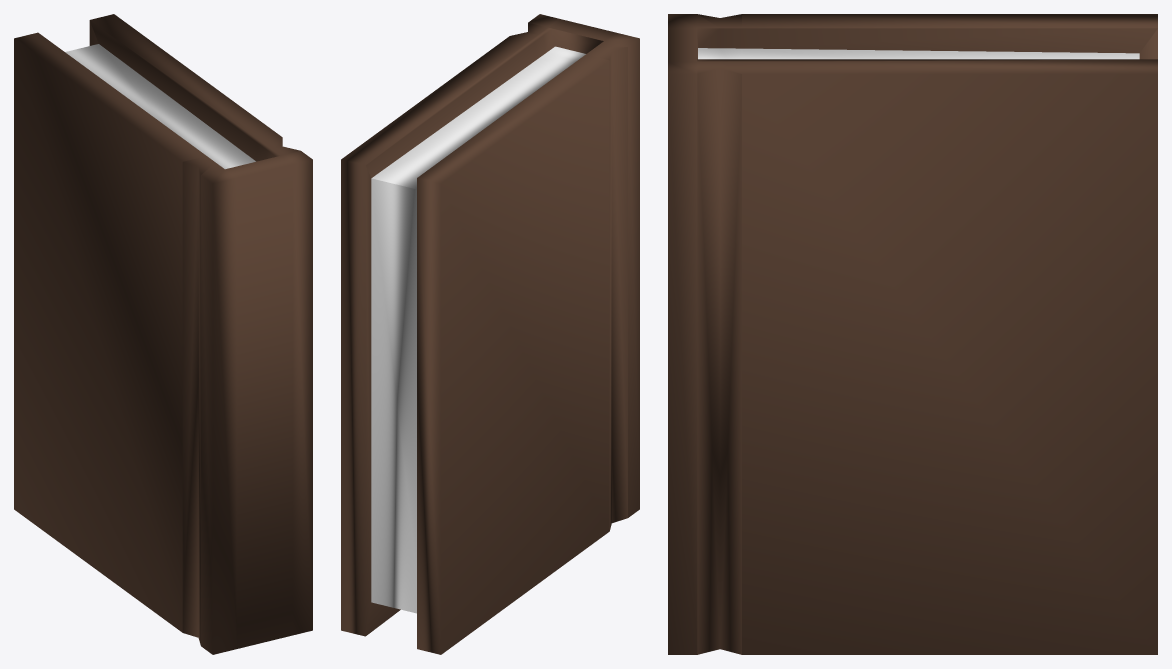
File: BrownBook.fbx
3 renders of one model, left to right at view 1: azimuth 30°, elevation 25°; view 2: azimuth 150°, elevation 25°; view 3: azimuth 270°, elevation 25°, orthographic. The views are drawn at different scales.
Visible parts, largest first — view 1: Brown Book; view 2: Brown Book; view 3: Brown Book.
Part boxes in pixels (x1,y1,x2,y2): Brown Book: [14, 14, 312, 654]; Brown Book: [341, 14, 639, 654]; Brown Book: [668, 14, 1157, 654].
Size of the model in its own units: 23.49 by 106 by 80.88.
